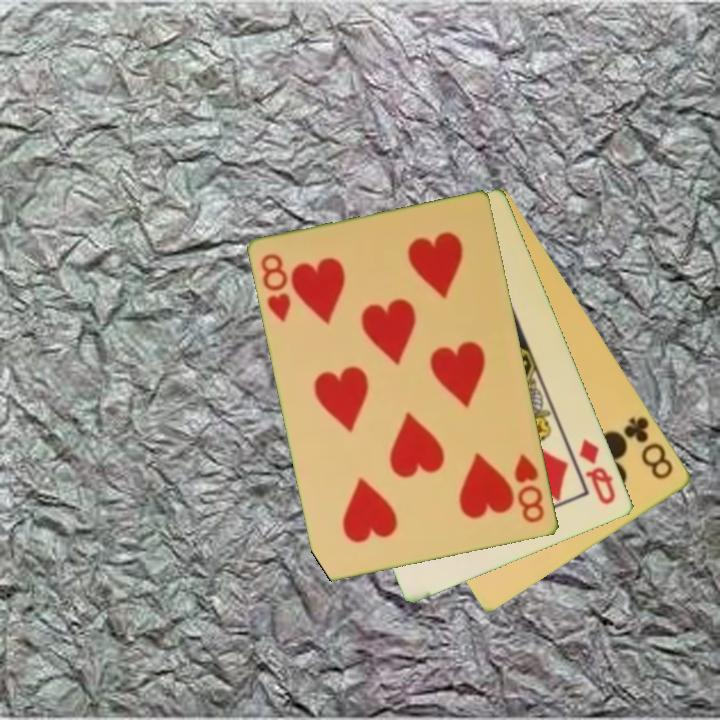8c: (620, 413, 677, 483)
8h: (257, 250, 295, 325), (511, 451, 548, 527)
Qd: (576, 435, 619, 508)
